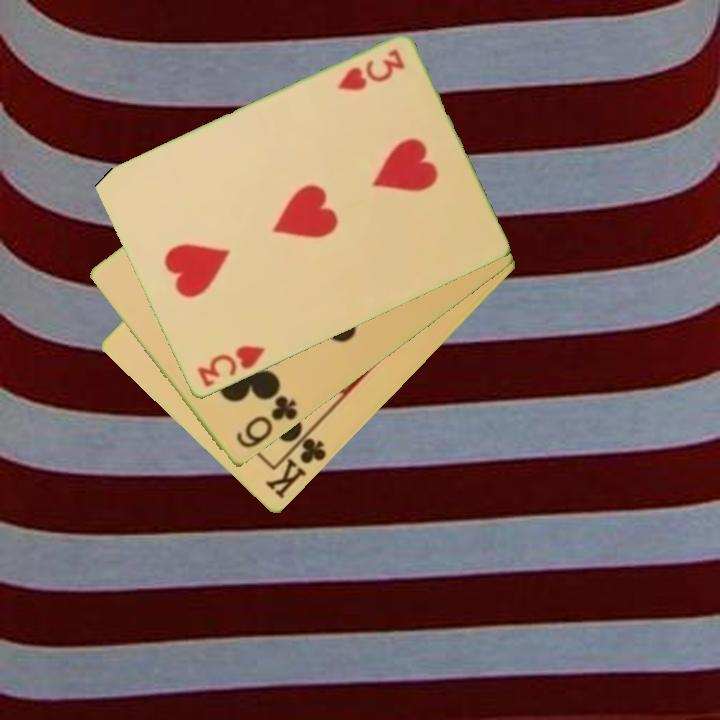3h: (193, 342, 268, 391), (333, 46, 408, 95)
6c: (232, 392, 301, 452)
Kc: (262, 425, 330, 503)
